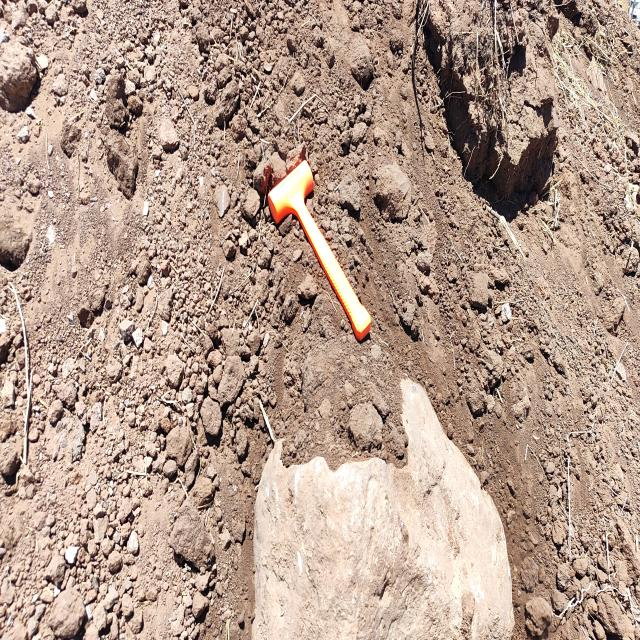Orange_hammer: (266, 155, 372, 343)
